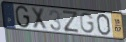3: (49, 9, 62, 32)
G: (15, 5, 31, 30), (79, 12, 96, 35)
O: (96, 14, 112, 37)
X: (30, 6, 48, 31)
Z: (62, 9, 80, 34)
